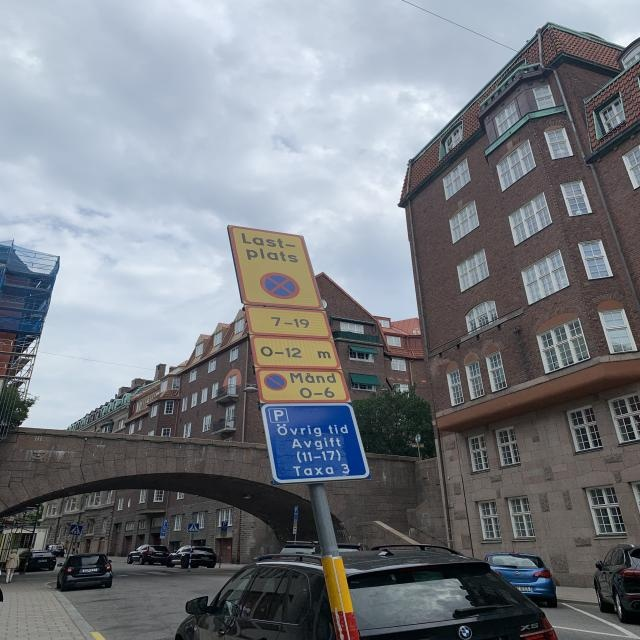lastplats: (224, 222, 328, 310)
